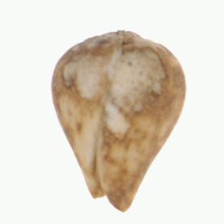L1: (85, 175, 133, 213), (87, 29, 159, 49)
L2: (51, 29, 186, 213)
